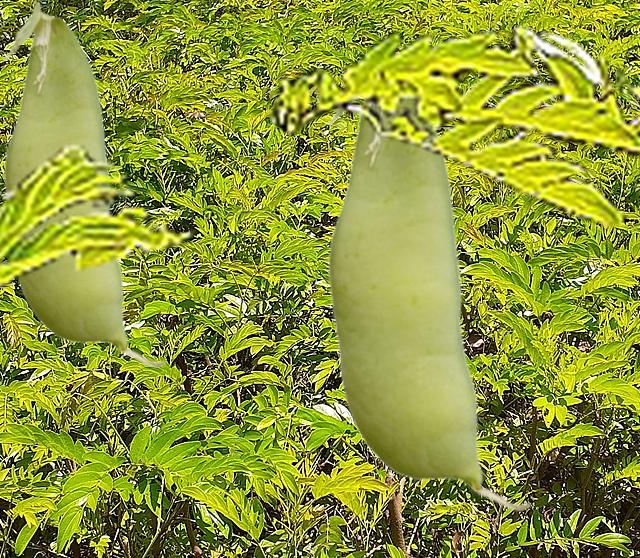pea: (325, 102, 532, 511), (1, 1, 166, 367)
